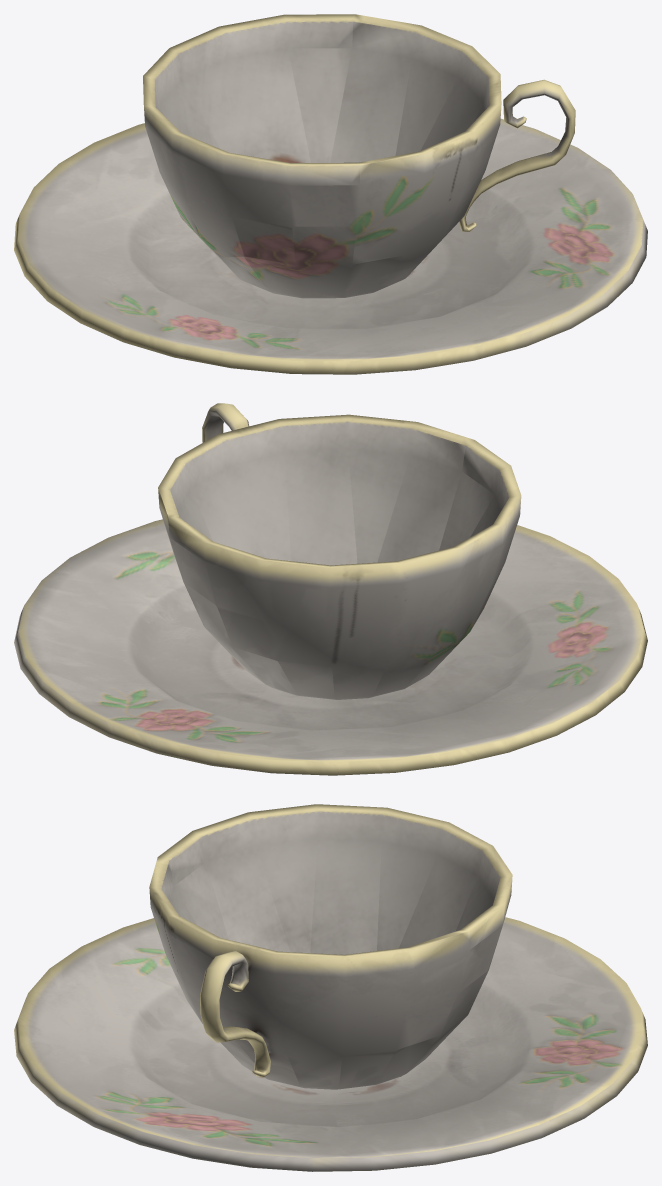
File: cup and plates.fbx
3 renders of one model, top to bottom at view 1: azimuth 30°, elevation 25°; view 2: azimuth 150°, elevation 25°; view 3: azimuth 270°, elevation 25°, orthographic.
Visible parts, largest first — view 1: polySurface13, polySurface5, polySurface4, polySurface6, polySurface16, polySurface15, polySurface11, polySurface2, polySurface14; view 2: polySurface13, polySurface2, polySurface16, polySurface5, polySurface6, polySurface4, polySurface15, polySurface11, polySurface14; view 3: polySurface13, polySurface5, polySurface2, polySurface15, polySurface4, polySurface16, polySurface11, polySurface6.
Part boxes in pixels (left/top/right/bottom): polySurface13: left=298, top=14, right=575, bottom=267; polySurface5: left=404, top=118, right=647, bottom=328; polySurface4: left=161, top=279, right=572, bottom=374; polySurface6: left=14, top=206, right=271, bottom=357; polySurface16: left=143, top=14, right=364, bottom=156; polySurface15: left=144, top=106, right=370, bottom=257; polySurface11: left=210, top=86, right=426, bottom=298; polySurface2: left=20, top=123, right=206, bottom=245; polySurface14: left=219, top=14, right=286, bottom=32; polySurface13: left=158, top=403, right=472, bottom=602; polySurface2: left=39, top=669, right=454, bottom=775; polySurface16: left=167, top=513, right=461, bottom=683; polySurface5: left=14, top=519, right=244, bottom=693; polySurface6: left=361, top=629, right=647, bottom=764; polySurface4: left=441, top=525, right=647, bottom=666; polySurface15: left=418, top=437, right=521, bottom=673; polySurface11: left=193, top=534, right=472, bottom=699; polySurface14: left=204, top=542, right=266, bottom=580; polySurface13: left=149, top=862, right=483, bottom=1077; polySurface5: left=31, top=1070, right=584, bottom=1171; polySurface2: left=394, top=921, right=647, bottom=1118; polySurface15: left=156, top=804, right=386, bottom=954; polySurface4: left=14, top=918, right=249, bottom=1087; polySurface16: left=377, top=807, right=512, bottom=972; polySurface11: left=218, top=907, right=487, bottom=1089; polySurface6: left=491, top=917, right=530, bottom=963.
Size of the model in its own units: 14.04 by 4.73 by 14.04.
1 material, 1 textured.
